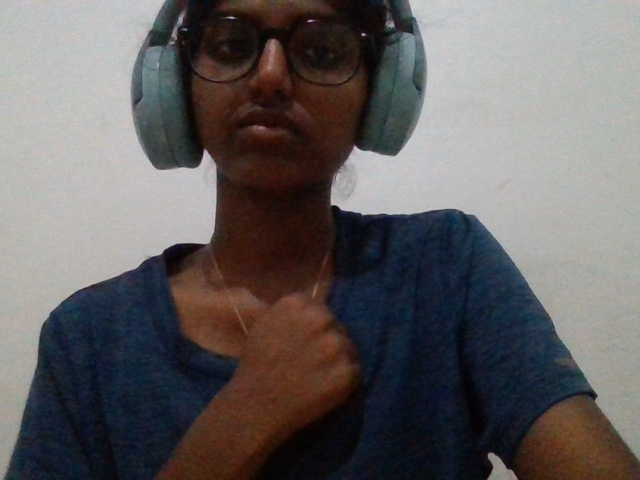Sorry: (196, 268, 394, 477)
